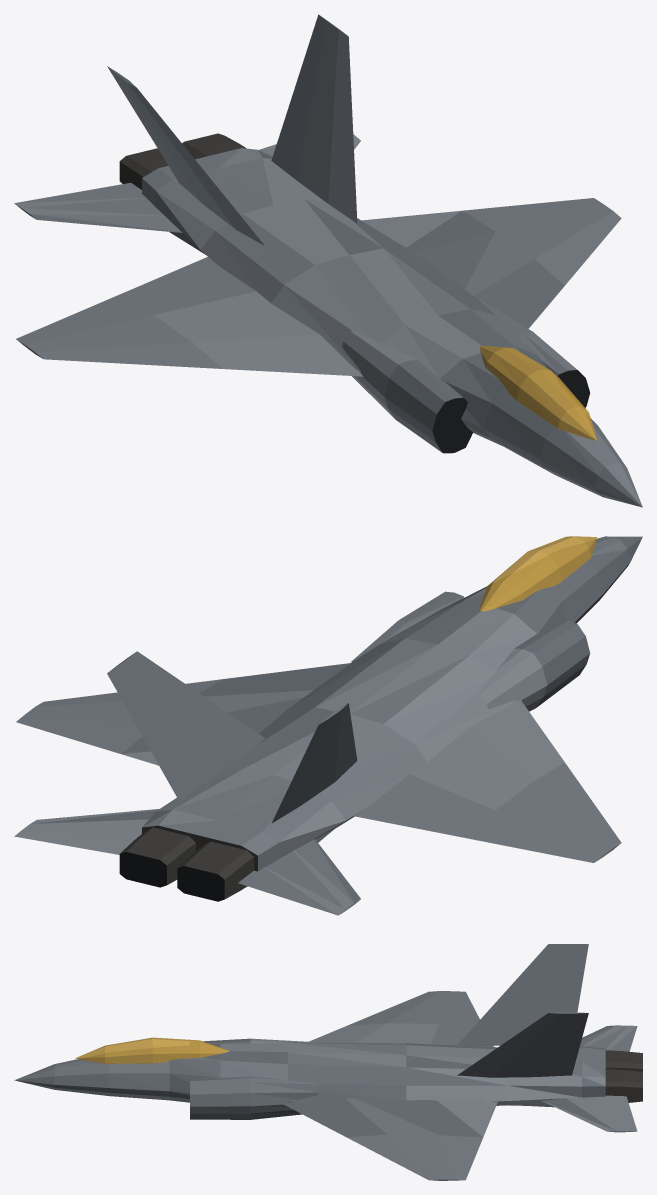
3 renders of one model, top to bottom at view 1: azimuth 30°, elevation 25°; view 2: azimuth 150°, elevation 25°; view 3: azimuth 270°, elevation 25°, orthographic. The views are drawn at different scales.
Parts seen in each view (by area): view 1: airframe, canopy; view 2: airframe, canopy; view 3: airframe, canopy.
Part boxes in pixels (bbox=[...]): airframe: bbox=[14, 14, 642, 507]; canopy: bbox=[480, 345, 597, 440]; airframe: bbox=[14, 536, 642, 915]; canopy: bbox=[480, 536, 597, 611]; airframe: bbox=[14, 944, 642, 1180]; canopy: bbox=[75, 1037, 229, 1063].
Size of the model in its own units: 13.19 by 3.95 by 18.6.
